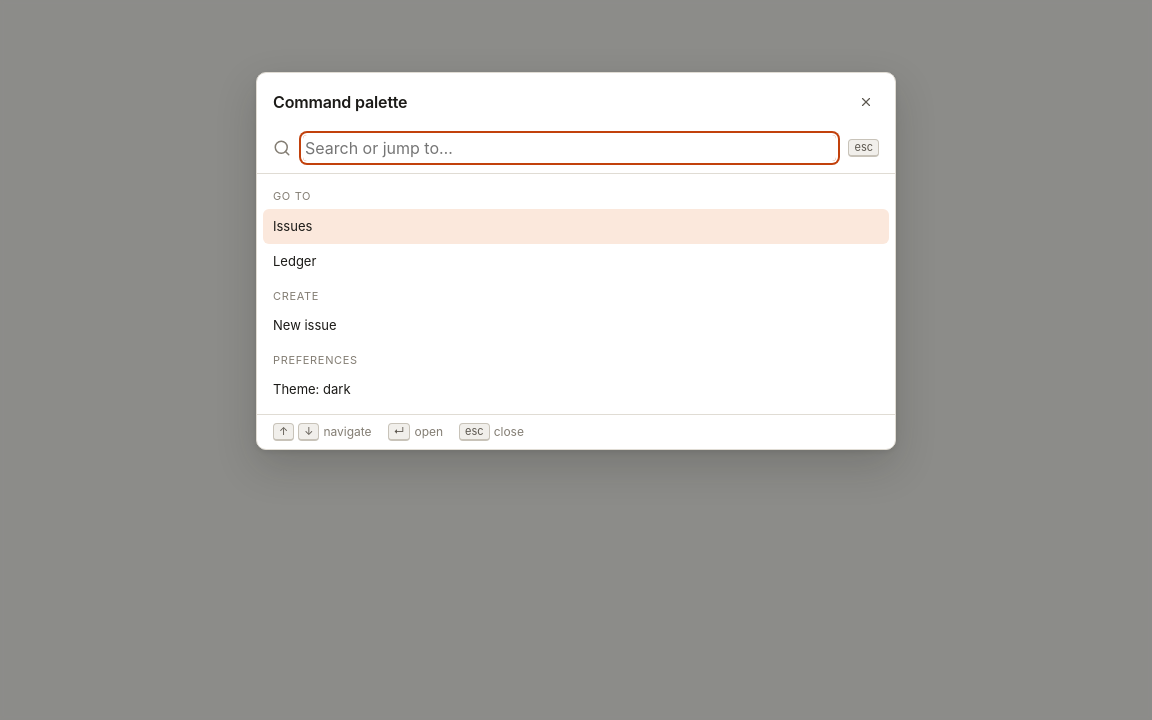
Scenario: <CommandPalette> › merges remote search results without duplicates
Type "iss" into the dropdown at x=570, y=148, box [303,135,836,161]
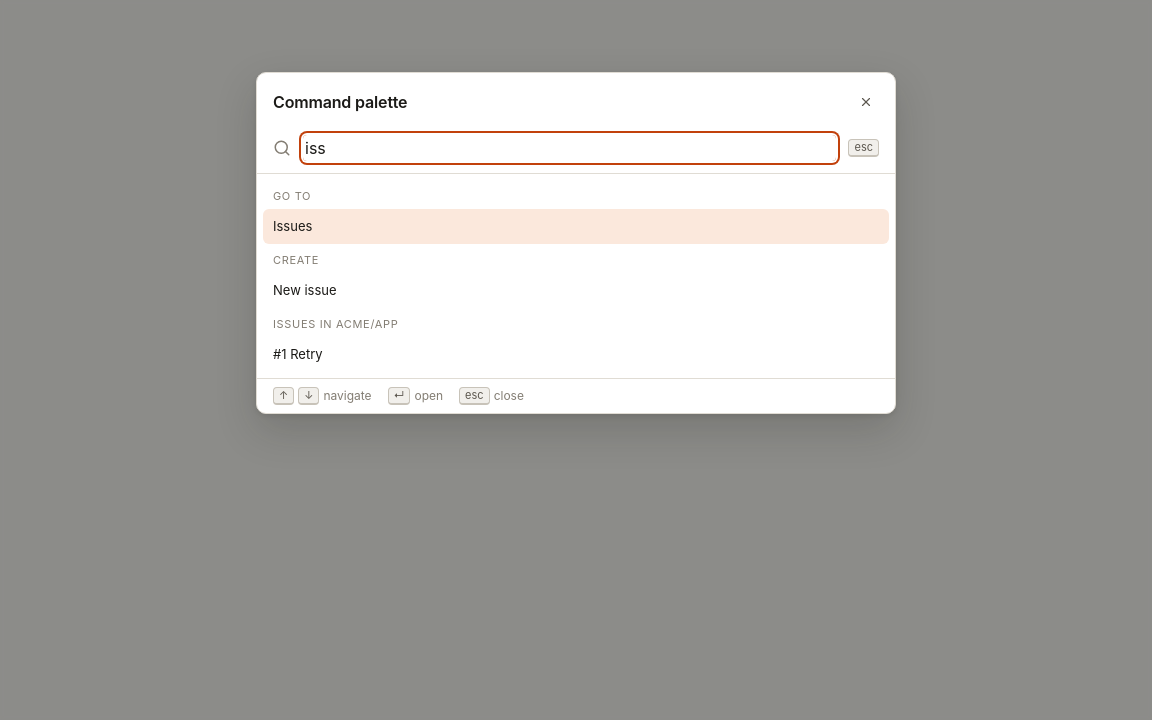
Check: the text "#1 Retry" is shown, box [273,346,323,362]
